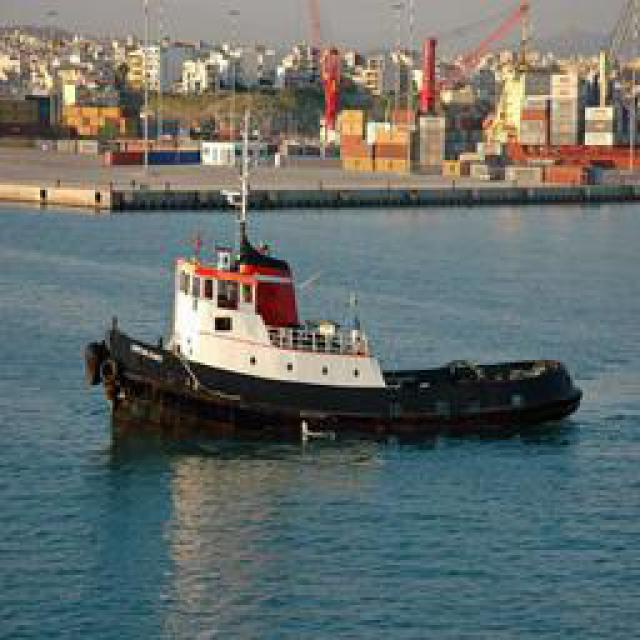Ship: (79, 119, 591, 452)
